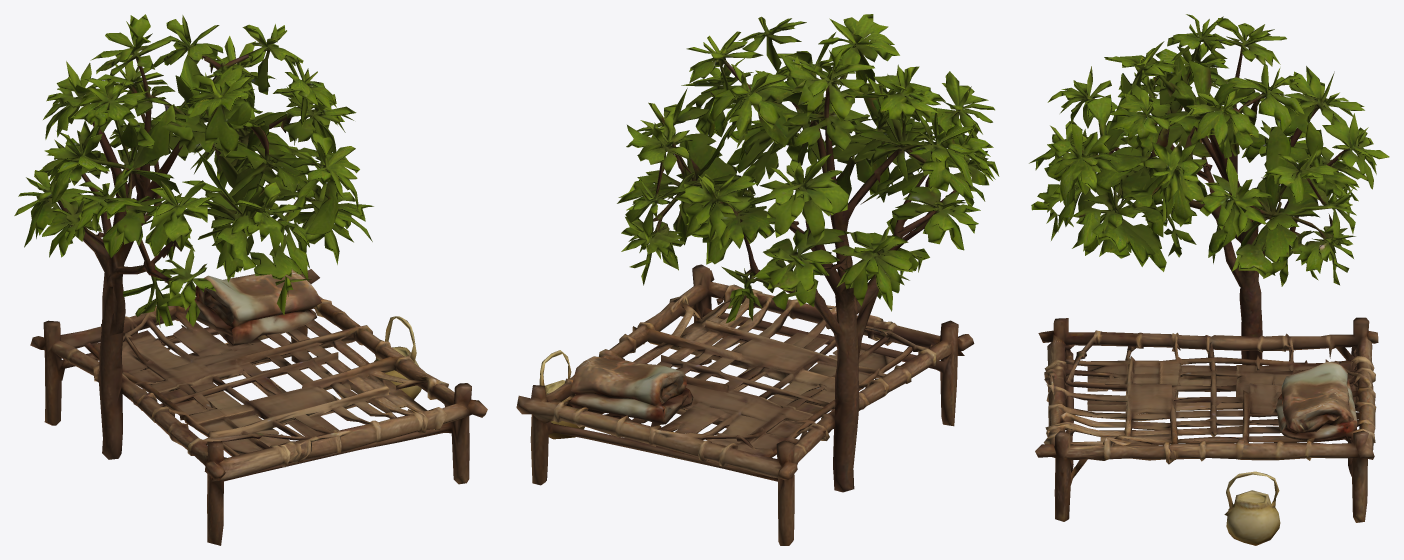
File: khatiya.glb
3 views of the same model, side by side, from view 1: azimuth 30°, elevation 25°; view 2: azimuth 150°, elevation 25°; view 3: azimuth 270°, elevation 25° (orthographic). The views are drawn at different scales.
Parts seen in each view (by area): view 1: tripo_node_ca190583-16cf-464f-8e61-8e68f3cdf87e; view 2: tripo_node_ca190583-16cf-464f-8e61-8e68f3cdf87e; view 3: tripo_node_ca190583-16cf-464f-8e61-8e68f3cdf87e.
Boxes of the visible parts, x1,y1,x2,y2 form: tripo_node_ca190583-16cf-464f-8e61-8e68f3cdf87e: [14, 14, 487, 545]; tripo_node_ca190583-16cf-464f-8e61-8e68f3cdf87e: [516, 14, 999, 545]; tripo_node_ca190583-16cf-464f-8e61-8e68f3cdf87e: [1029, 14, 1389, 545].
Bounding box in the file's own units: 1.08 × 1.1 × 0.8996.
Materials: 1 (1 with a texture image).
